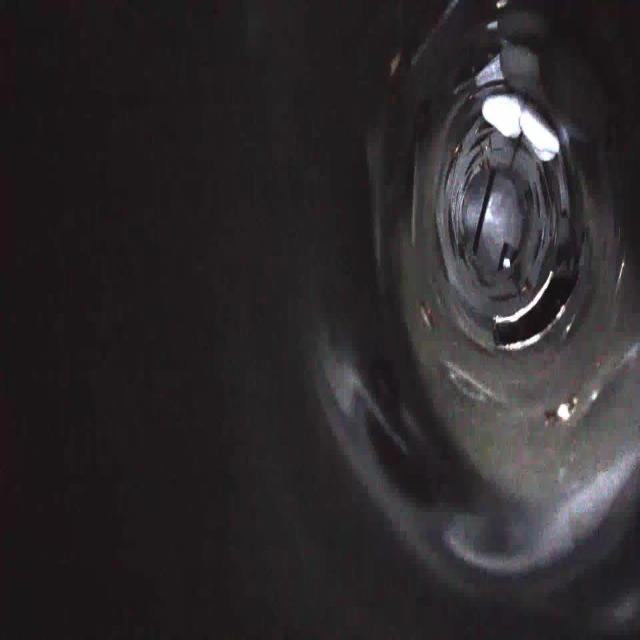crack: (464, 116, 496, 164), (434, 207, 461, 261), (435, 143, 460, 201), (486, 281, 526, 313), (530, 157, 554, 210), (533, 229, 571, 262), (500, 125, 527, 164)
hole: (490, 262, 582, 358)
